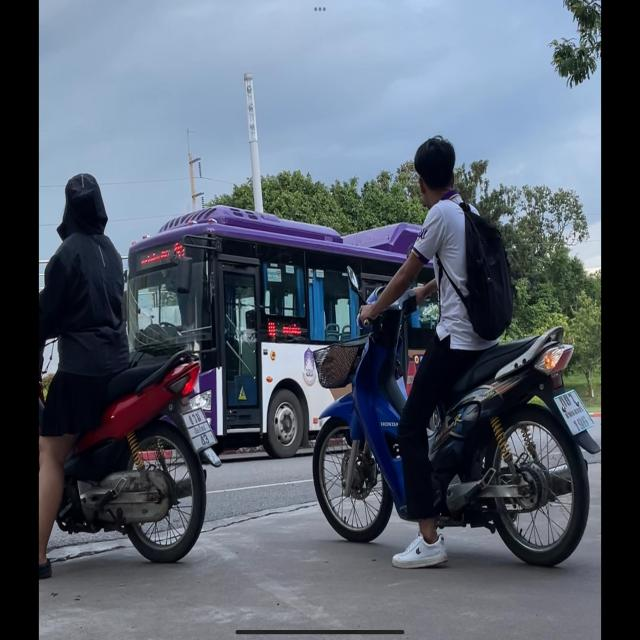seatbelt: (56, 171, 110, 237), (411, 136, 458, 206)
